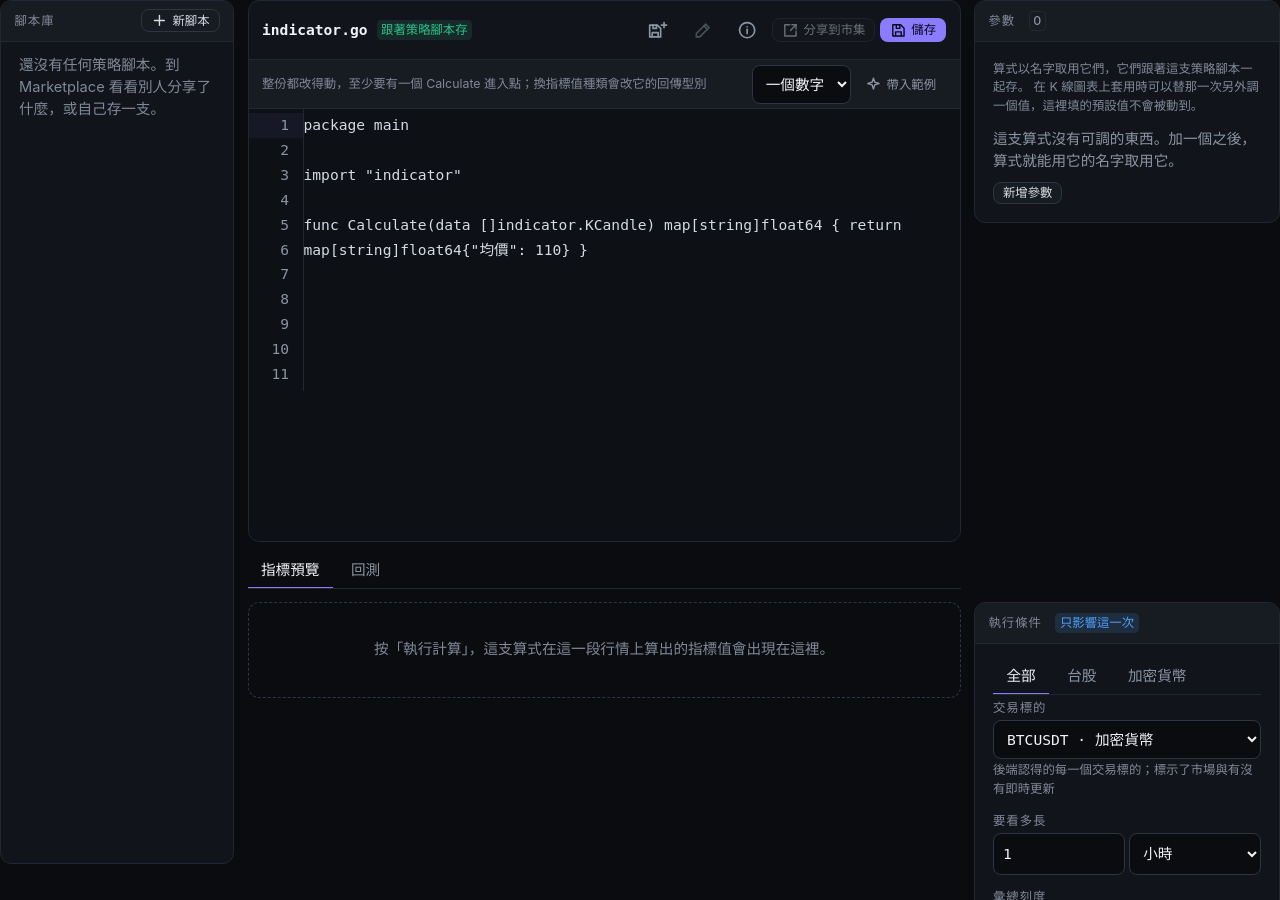
Test case: IndicatorCalculationPanel › 算式跑不起來時，明確說是算式的問題
Clear the field with class "cm-content" at (356, 125), box [304,116,910,258]
(page scrolled)
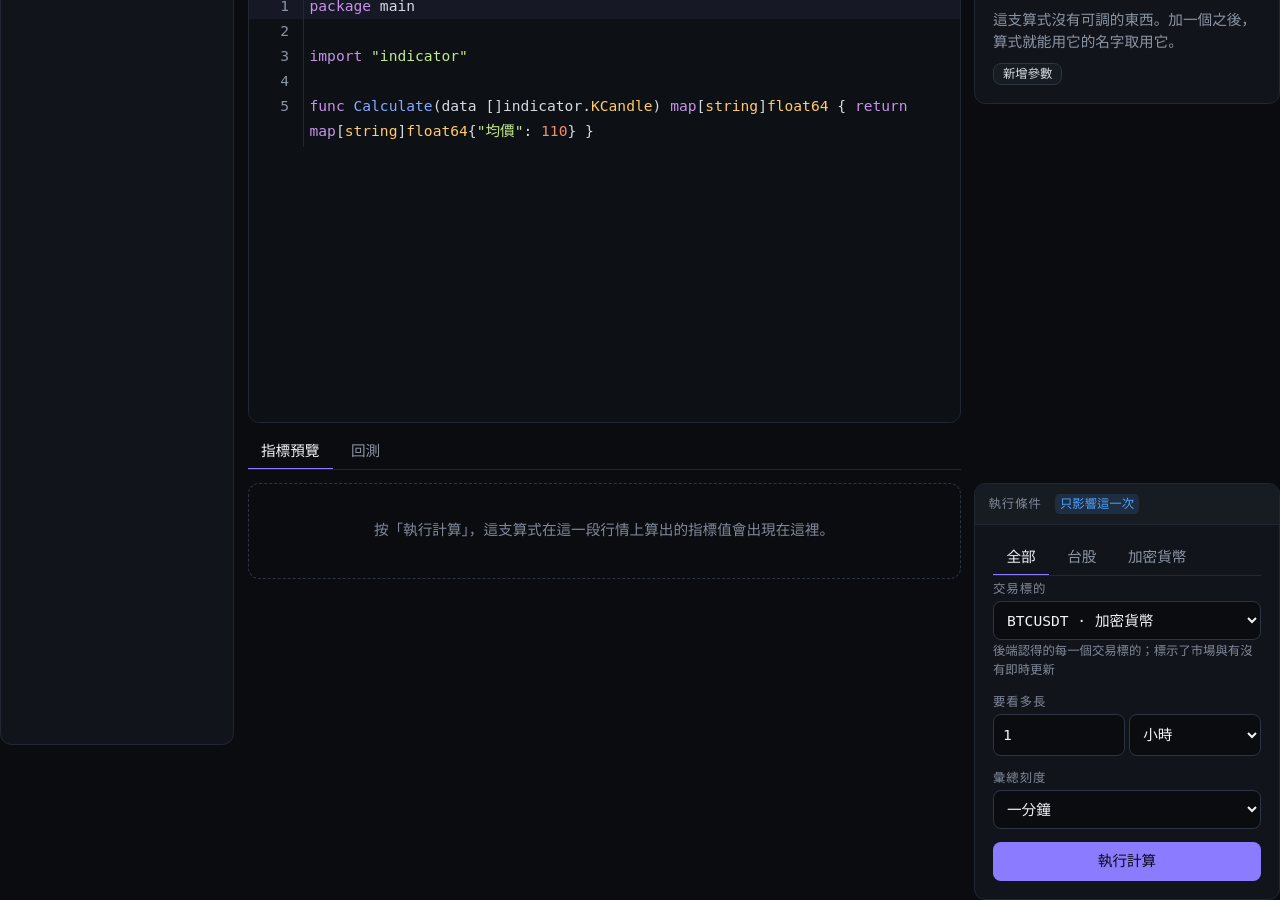
Submit the form, box [248,483,1279,899]
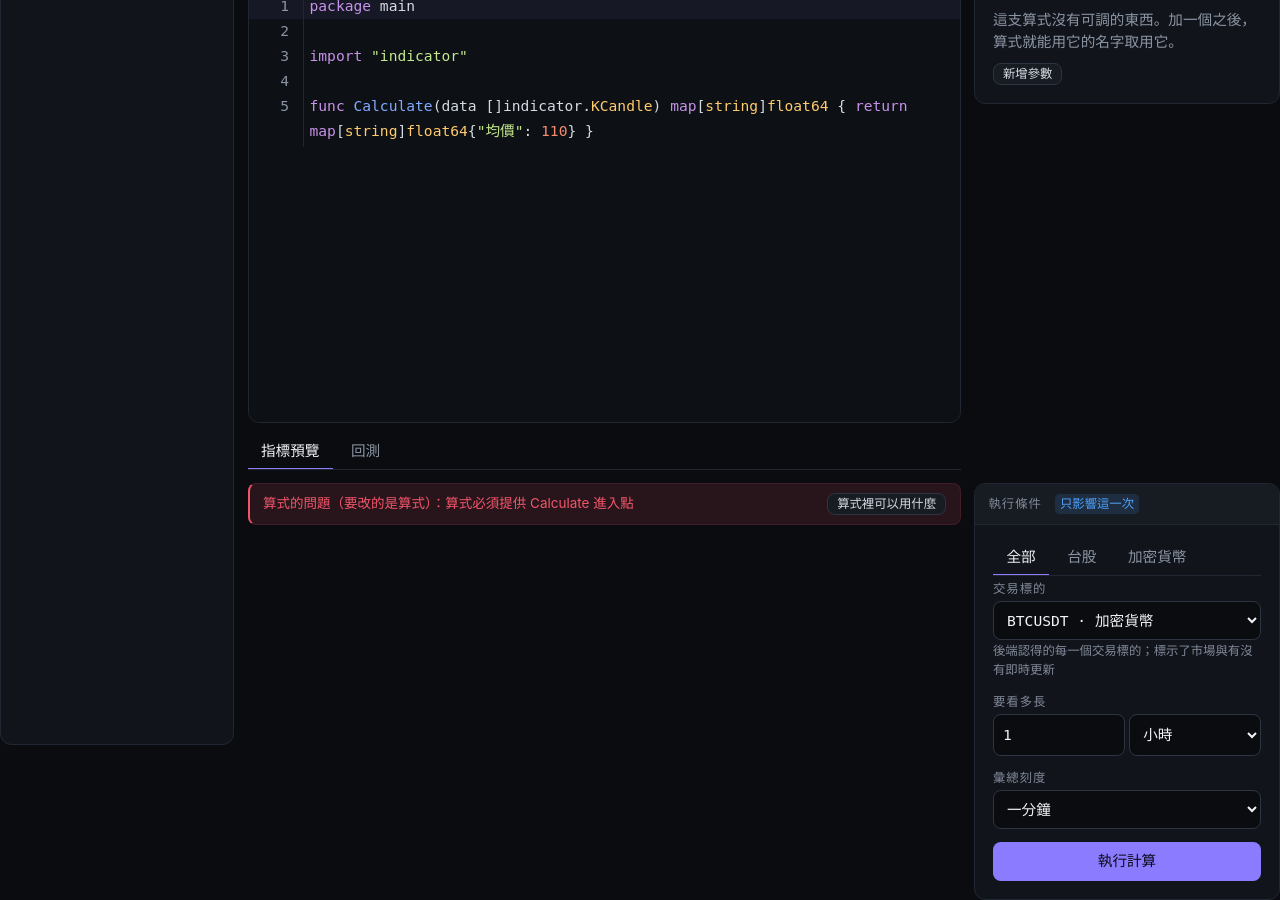
expect the message with test id "script-failed-alert" shows "要改的是算式": met, box [263,495,634,511]
expect the message with test id "script-failed-alert" shows "算式必須提供 Calculate 進入點": met, box [263,495,634,511]
Click the button with test id "script-failed-guide-button" at (887, 504), box [827,493,946,515]
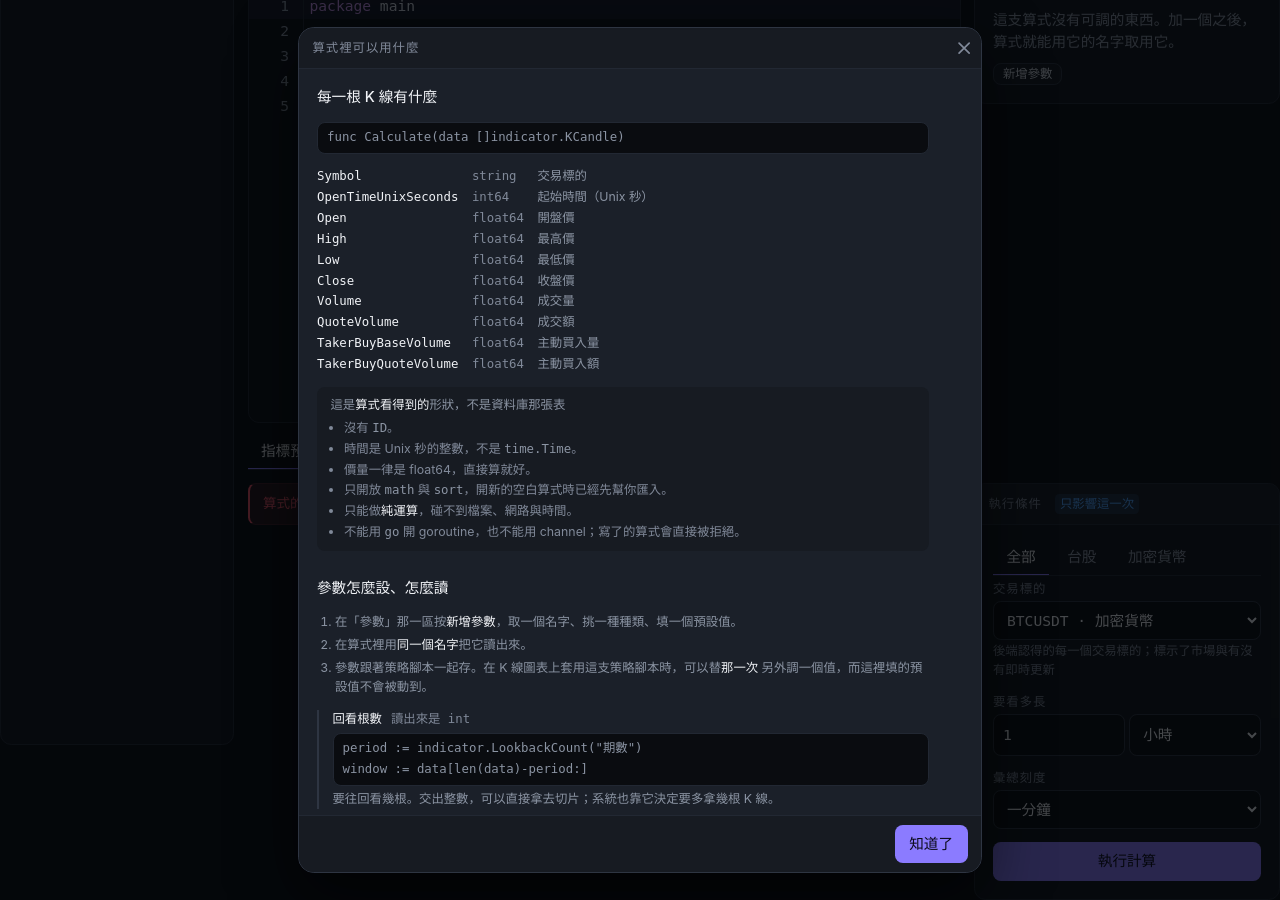
expect the element with test id "script-parameter-access" is shown: met, box [317,710,929,809]
